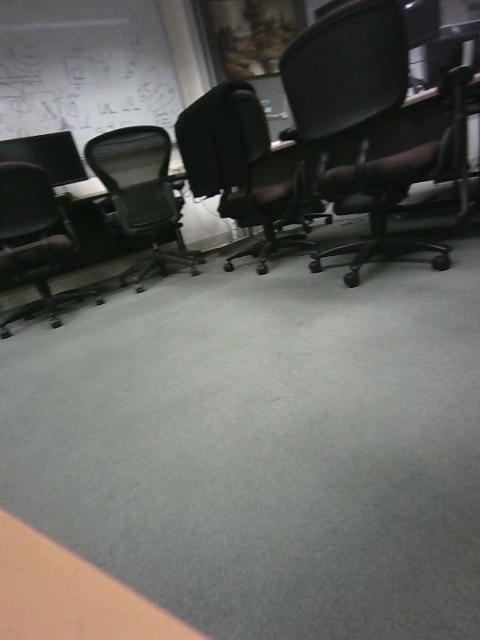block: (303, 311, 359, 354)
